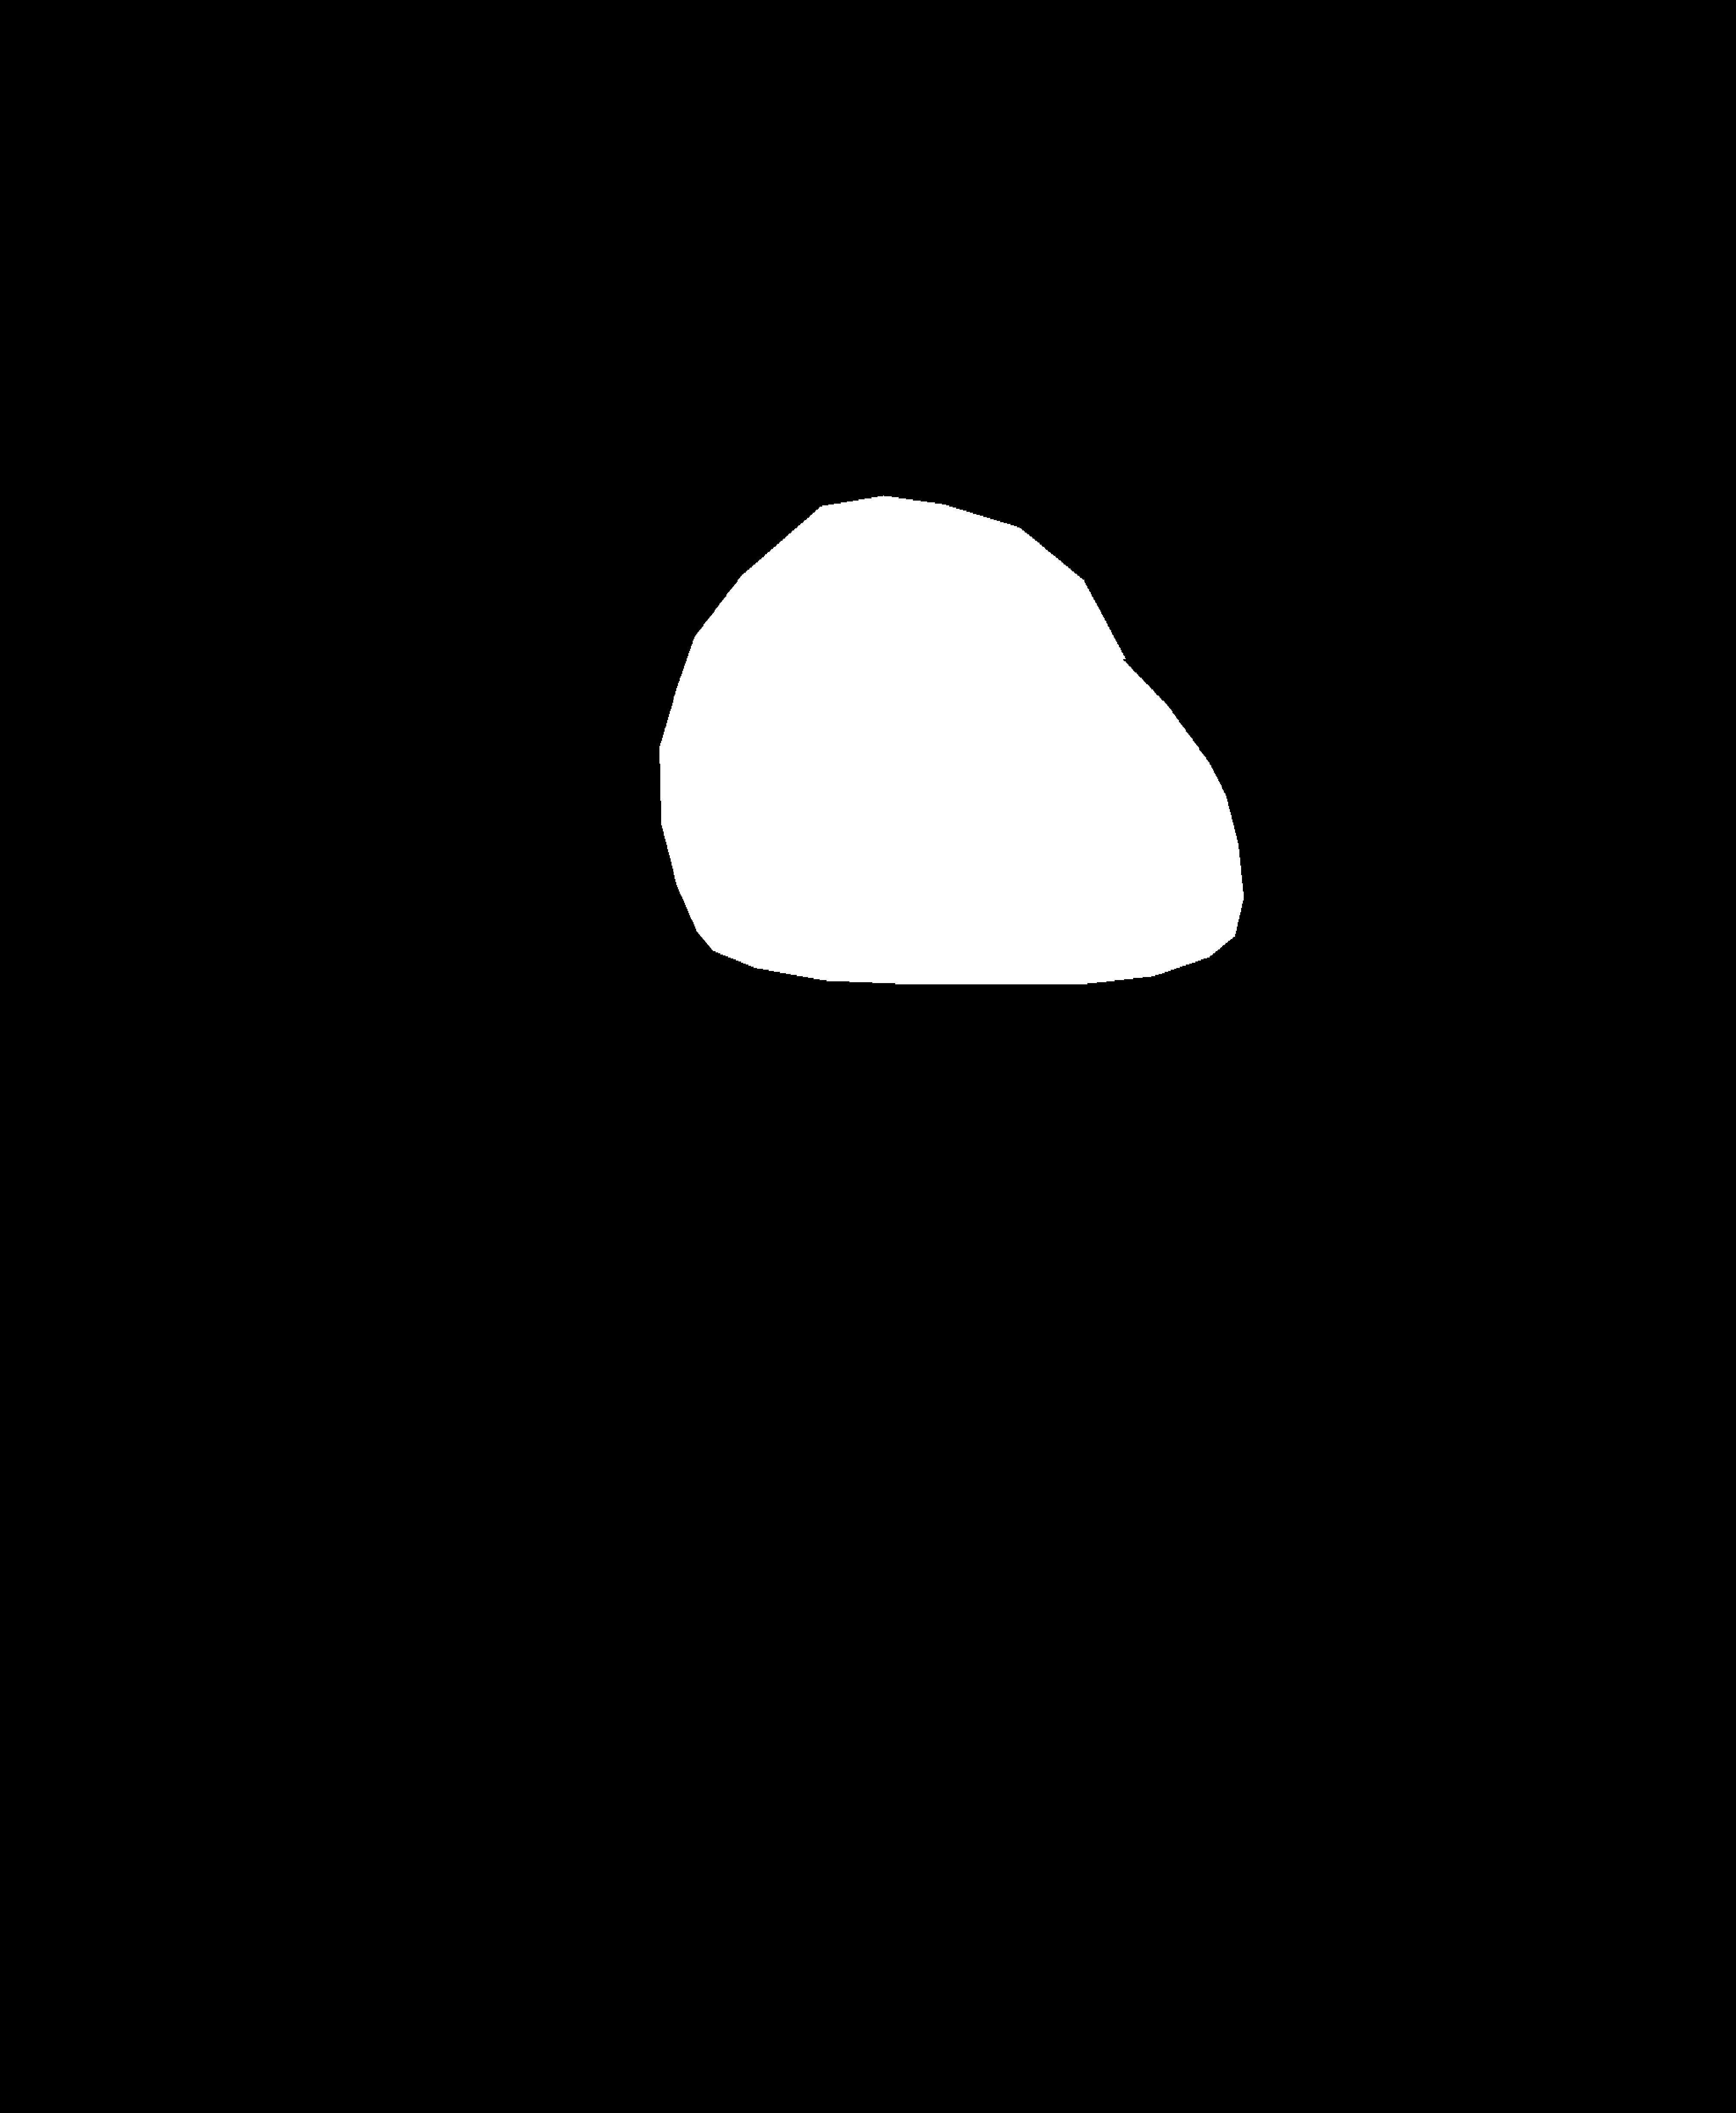heart: (662, 620, 1243, 944)
left_lung: (249, 153, 760, 1197)
right_lung: (872, 135, 1448, 1071)
